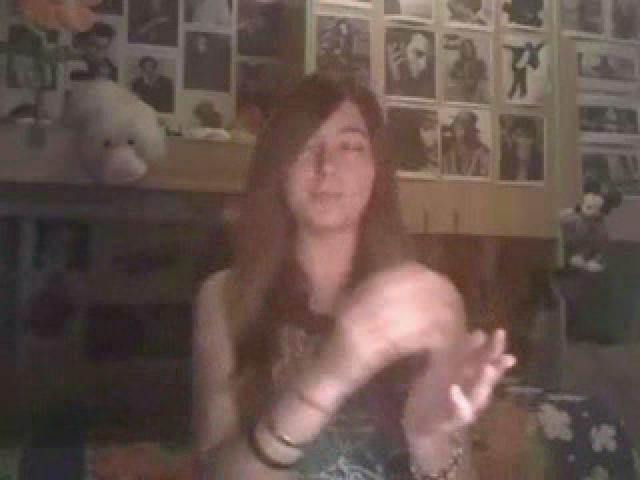F: (192, 82, 472, 480)
